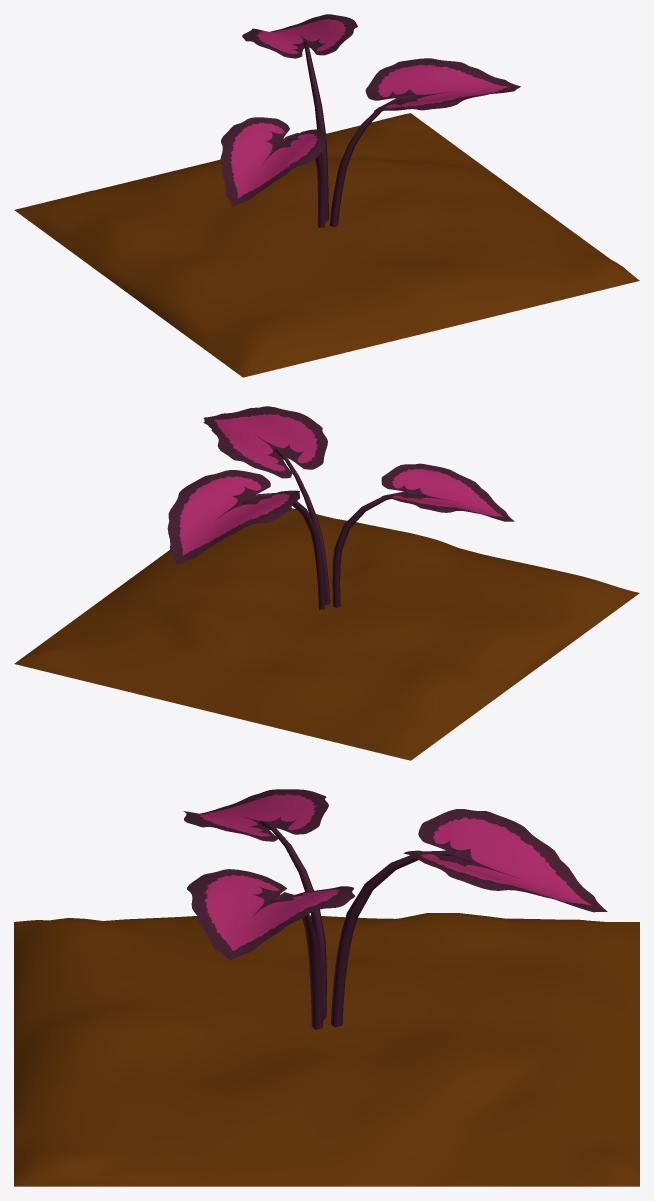
Rendered from begonia-rex-p1-leaf.glb.
3 views of the same model, one above another, from view 1: azimuth 30°, elevation 25°; view 2: azimuth 150°, elevation 25°; view 3: azimuth 270°, elevation 25° (orthographic). The views are drawn at different scales.
Visible parts, largest first — view 1: 1_nft_out_of_bloom; view 2: 1_nft_out_of_bloom; view 3: 1_nft_out_of_bloom.
Part boxes in pixels (x1,y1,x2,y2): 1_nft_out_of_bloom: (14,14,639,377); 1_nft_out_of_bloom: (14,406,639,760); 1_nft_out_of_bloom: (14,789,639,1186).
Size of the model in its own units: 0.7 by 0.286 by 0.7.
3 materials, 1 textured.
